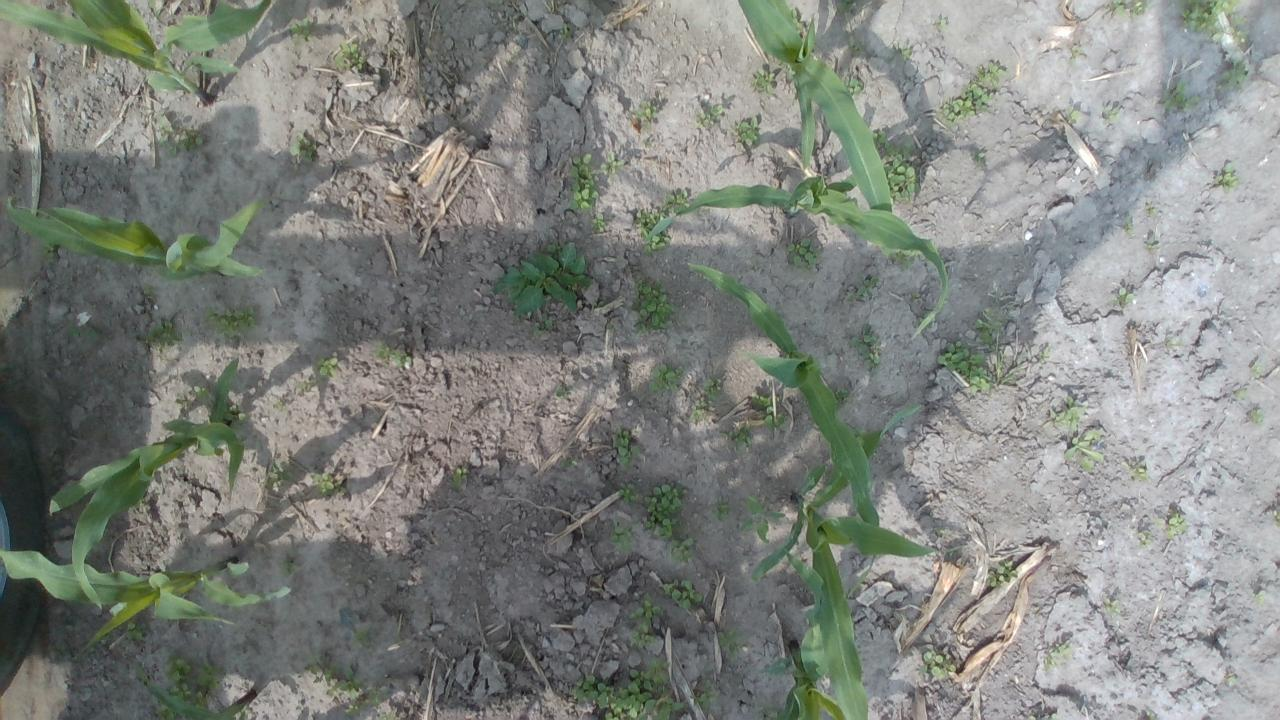Maize: (749, 400, 965, 720), (677, 256, 882, 592), (640, 172, 954, 340), (46, 356, 244, 611), (737, 0, 902, 266), (0, 545, 297, 653), (0, 0, 275, 108), (2, 190, 282, 283), (758, 609, 844, 720), (129, 661, 256, 720)
Weeds: (494, 240, 592, 324), (569, 658, 686, 720), (303, 648, 390, 717), (932, 342, 1022, 395), (938, 62, 1007, 126), (866, 130, 923, 205), (162, 650, 223, 708), (1172, 0, 1240, 42), (631, 278, 679, 334), (643, 483, 686, 538), (738, 495, 786, 544), (970, 296, 1019, 343), (624, 593, 664, 650), (203, 301, 260, 340), (1060, 426, 1106, 472), (566, 154, 602, 212), (634, 204, 674, 255), (154, 114, 202, 154), (848, 323, 883, 376), (142, 316, 185, 356), (784, 238, 826, 278), (1039, 396, 1088, 428), (749, 391, 788, 430), (1158, 78, 1201, 112), (612, 426, 642, 468), (663, 579, 703, 610), (372, 340, 413, 368), (918, 650, 956, 680), (648, 362, 684, 393), (1153, 510, 1188, 541), (308, 470, 349, 496), (844, 274, 881, 302), (1220, 58, 1249, 92), (332, 40, 366, 69), (984, 562, 1020, 589), (690, 103, 726, 130), (690, 679, 721, 710), (1108, 0, 1156, 20), (289, 130, 317, 164), (716, 628, 744, 662), (720, 424, 754, 452), (1211, 160, 1240, 192), (64, 322, 108, 343), (746, 66, 776, 96), (730, 117, 761, 146), (608, 520, 636, 552), (1044, 641, 1074, 670), (630, 100, 658, 130), (290, 18, 318, 47), (666, 536, 694, 564), (661, 188, 690, 214), (1122, 459, 1152, 484), (1226, 13, 1249, 45), (266, 460, 292, 488), (278, 551, 304, 578), (32, 236, 59, 261), (706, 496, 730, 522), (224, 404, 250, 428), (600, 153, 626, 177), (530, 314, 554, 338), (831, 386, 854, 411), (892, 248, 918, 270), (348, 622, 370, 647), (888, 41, 914, 62), (618, 481, 639, 506), (123, 620, 149, 640), (314, 355, 338, 376), (1110, 287, 1136, 306), (690, 397, 710, 421), (703, 377, 722, 402), (156, 702, 182, 720), (841, 74, 864, 94), (172, 394, 194, 414), (846, 34, 866, 56), (588, 212, 608, 234), (1101, 598, 1122, 618), (758, 700, 778, 720), (451, 466, 468, 489), (1100, 105, 1120, 124), (193, 384, 212, 404), (1135, 529, 1154, 549), (1064, 105, 1082, 126), (789, 9, 805, 30), (1069, 44, 1085, 64), (850, 425, 866, 445), (142, 282, 160, 298), (1248, 358, 1264, 376), (560, 456, 580, 470), (973, 150, 988, 168), (1144, 236, 1160, 252), (1252, 588, 1268, 604), (1248, 408, 1265, 423), (836, 0, 854, 13), (1123, 217, 1135, 236), (1028, 713, 1060, 720), (934, 16, 948, 31), (559, 22, 572, 38), (556, 385, 572, 398), (297, 381, 319, 390), (1036, 346, 1050, 360), (377, 712, 399, 720), (1164, 339, 1182, 348), (1144, 204, 1156, 217), (591, 298, 606, 308), (1226, 675, 1238, 687), (934, 526, 948, 536), (1272, 509, 1280, 526), (1234, 389, 1246, 400), (907, 292, 921, 300), (605, 322, 614, 330)
